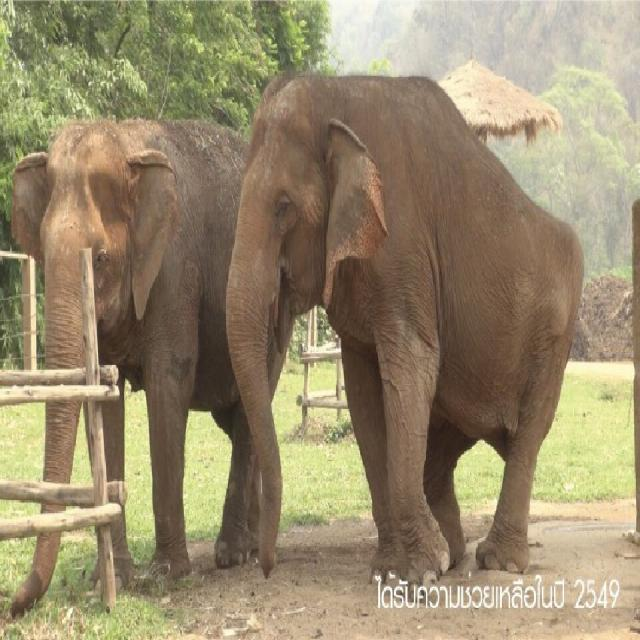Elephant: (234, 49, 590, 576), (8, 57, 228, 610)
